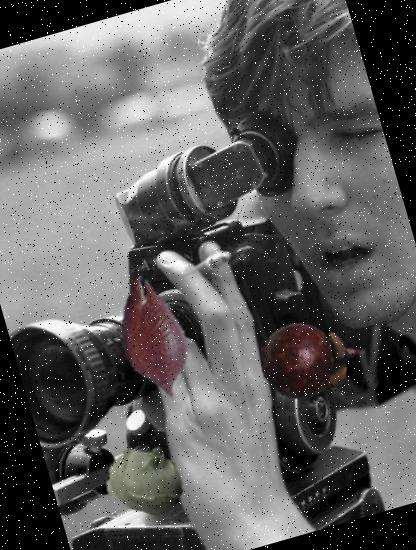Kohlrabi: (100, 430, 194, 526)
Mangostan: (248, 299, 372, 423)
Salak: (75, 260, 232, 416)
